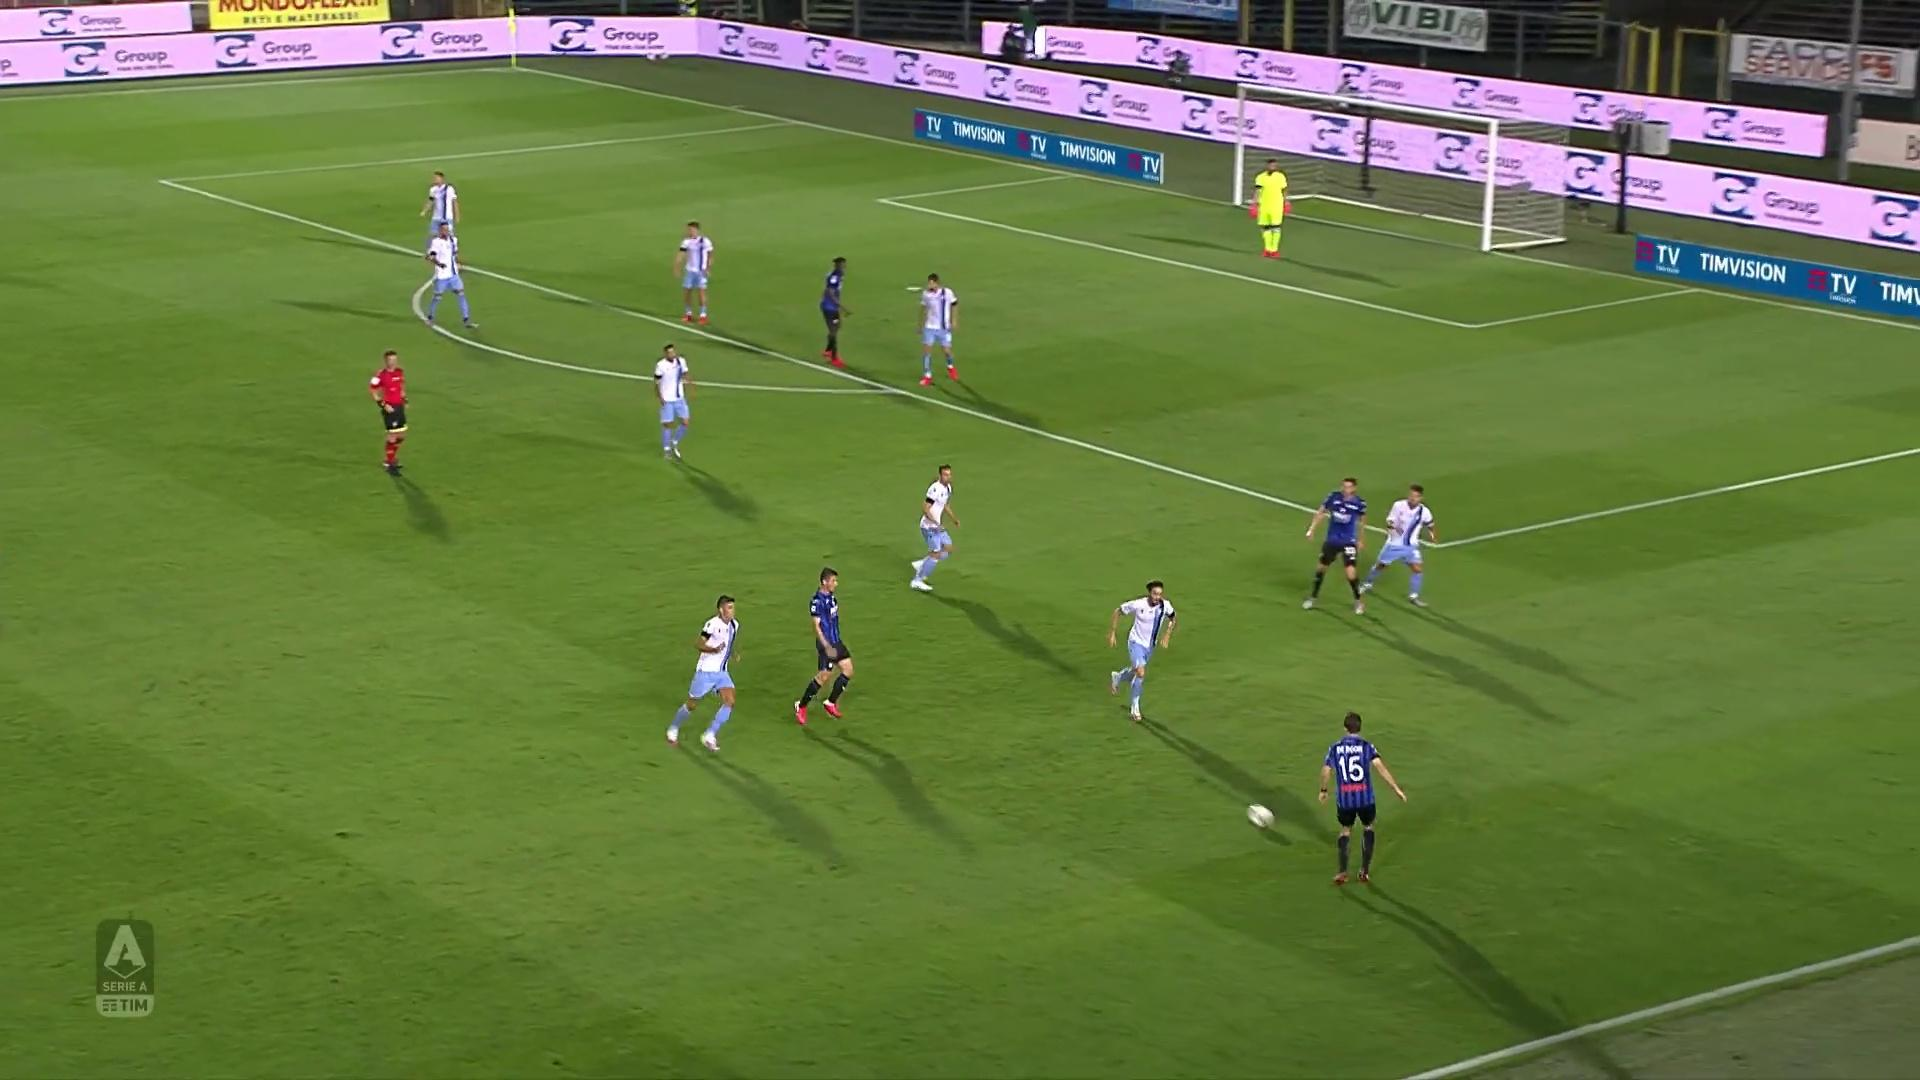ball: (1244, 800, 1276, 837)
goalkeeper: (1249, 156, 1293, 263)
player: (1318, 708, 1409, 885), (665, 591, 747, 752), (1354, 480, 1441, 610), (790, 564, 857, 725), (1106, 579, 1177, 723), (1301, 474, 1370, 618), (419, 219, 484, 334), (907, 459, 963, 592), (914, 270, 964, 388), (649, 341, 696, 464), (671, 218, 716, 329), (416, 169, 465, 269), (816, 254, 856, 370)
referee: (365, 346, 417, 477)
